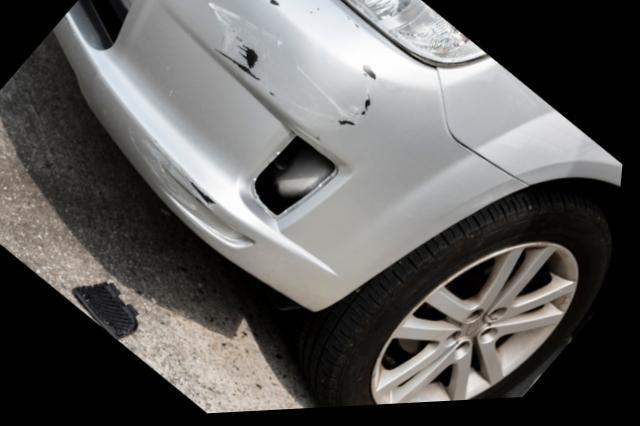scratch: (204, 0, 379, 133), (128, 124, 219, 215)
